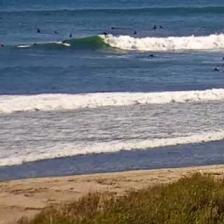surfer: (159, 24, 168, 30), (152, 25, 158, 31), (213, 67, 220, 72), (111, 26, 121, 29), (68, 33, 74, 38), (54, 30, 60, 35), (36, 28, 41, 34), (149, 54, 156, 58), (62, 40, 67, 45), (102, 32, 108, 36), (0, 44, 5, 48), (133, 30, 137, 34), (33, 43, 38, 46), (221, 63, 223, 68), (222, 56, 223, 62)
